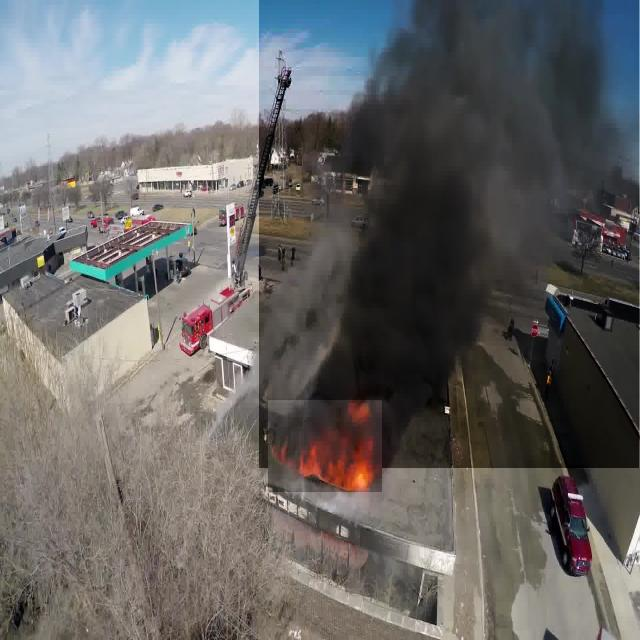Fire: (268, 400, 382, 492)
Smoke: (259, 0, 639, 468)
